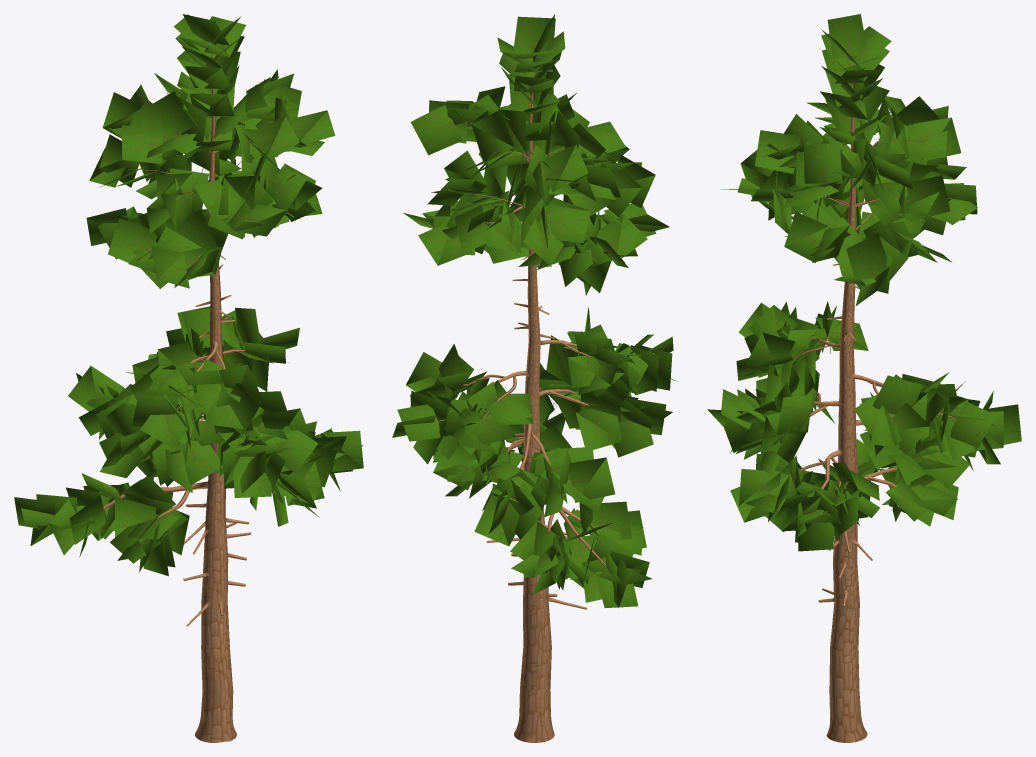
The model's file is Pine_01.glb.
The picture shows the model from 3 angles, left to right: view 1: azimuth 30°, elevation 25°; view 2: azimuth 150°, elevation 25°; view 3: azimuth 270°, elevation 25°; orthographic projection. The views are drawn at different scales.
Parts seen in each view (by area): view 1: Pine_01; view 2: Pine_01; view 3: Pine_01.
Boxes of the visible parts, x1,y1,x2,y2 form: Pine_01: (14,14,363,742); Pine_01: (392,14,677,742); Pine_01: (707,14,1021,742).
Size of the model in its own units: 6.61 by 16.38 by 6.59.
Materials: 2 (2 with a texture image).
